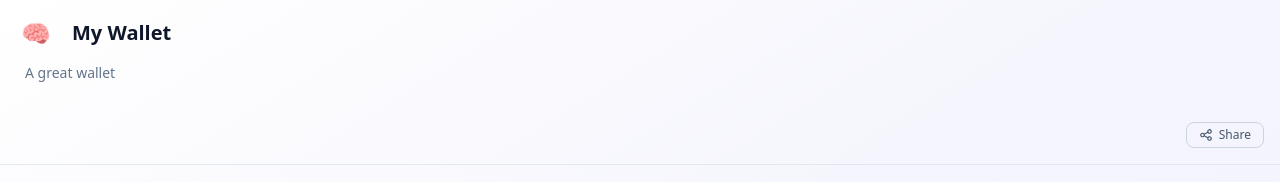
Test: WalletHeader › clicking title enters edit mode
Click the heading "My Wallet": (122, 32) x1=72 y1=19 x2=171 y2=46
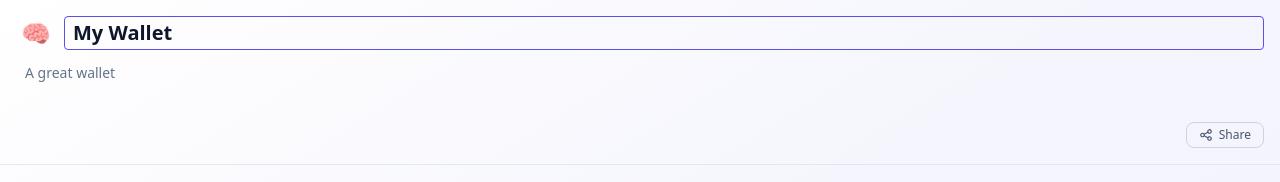
Check: the field named "Wallet title" is shown, box x1=64 y1=16 x2=1264 y2=50
